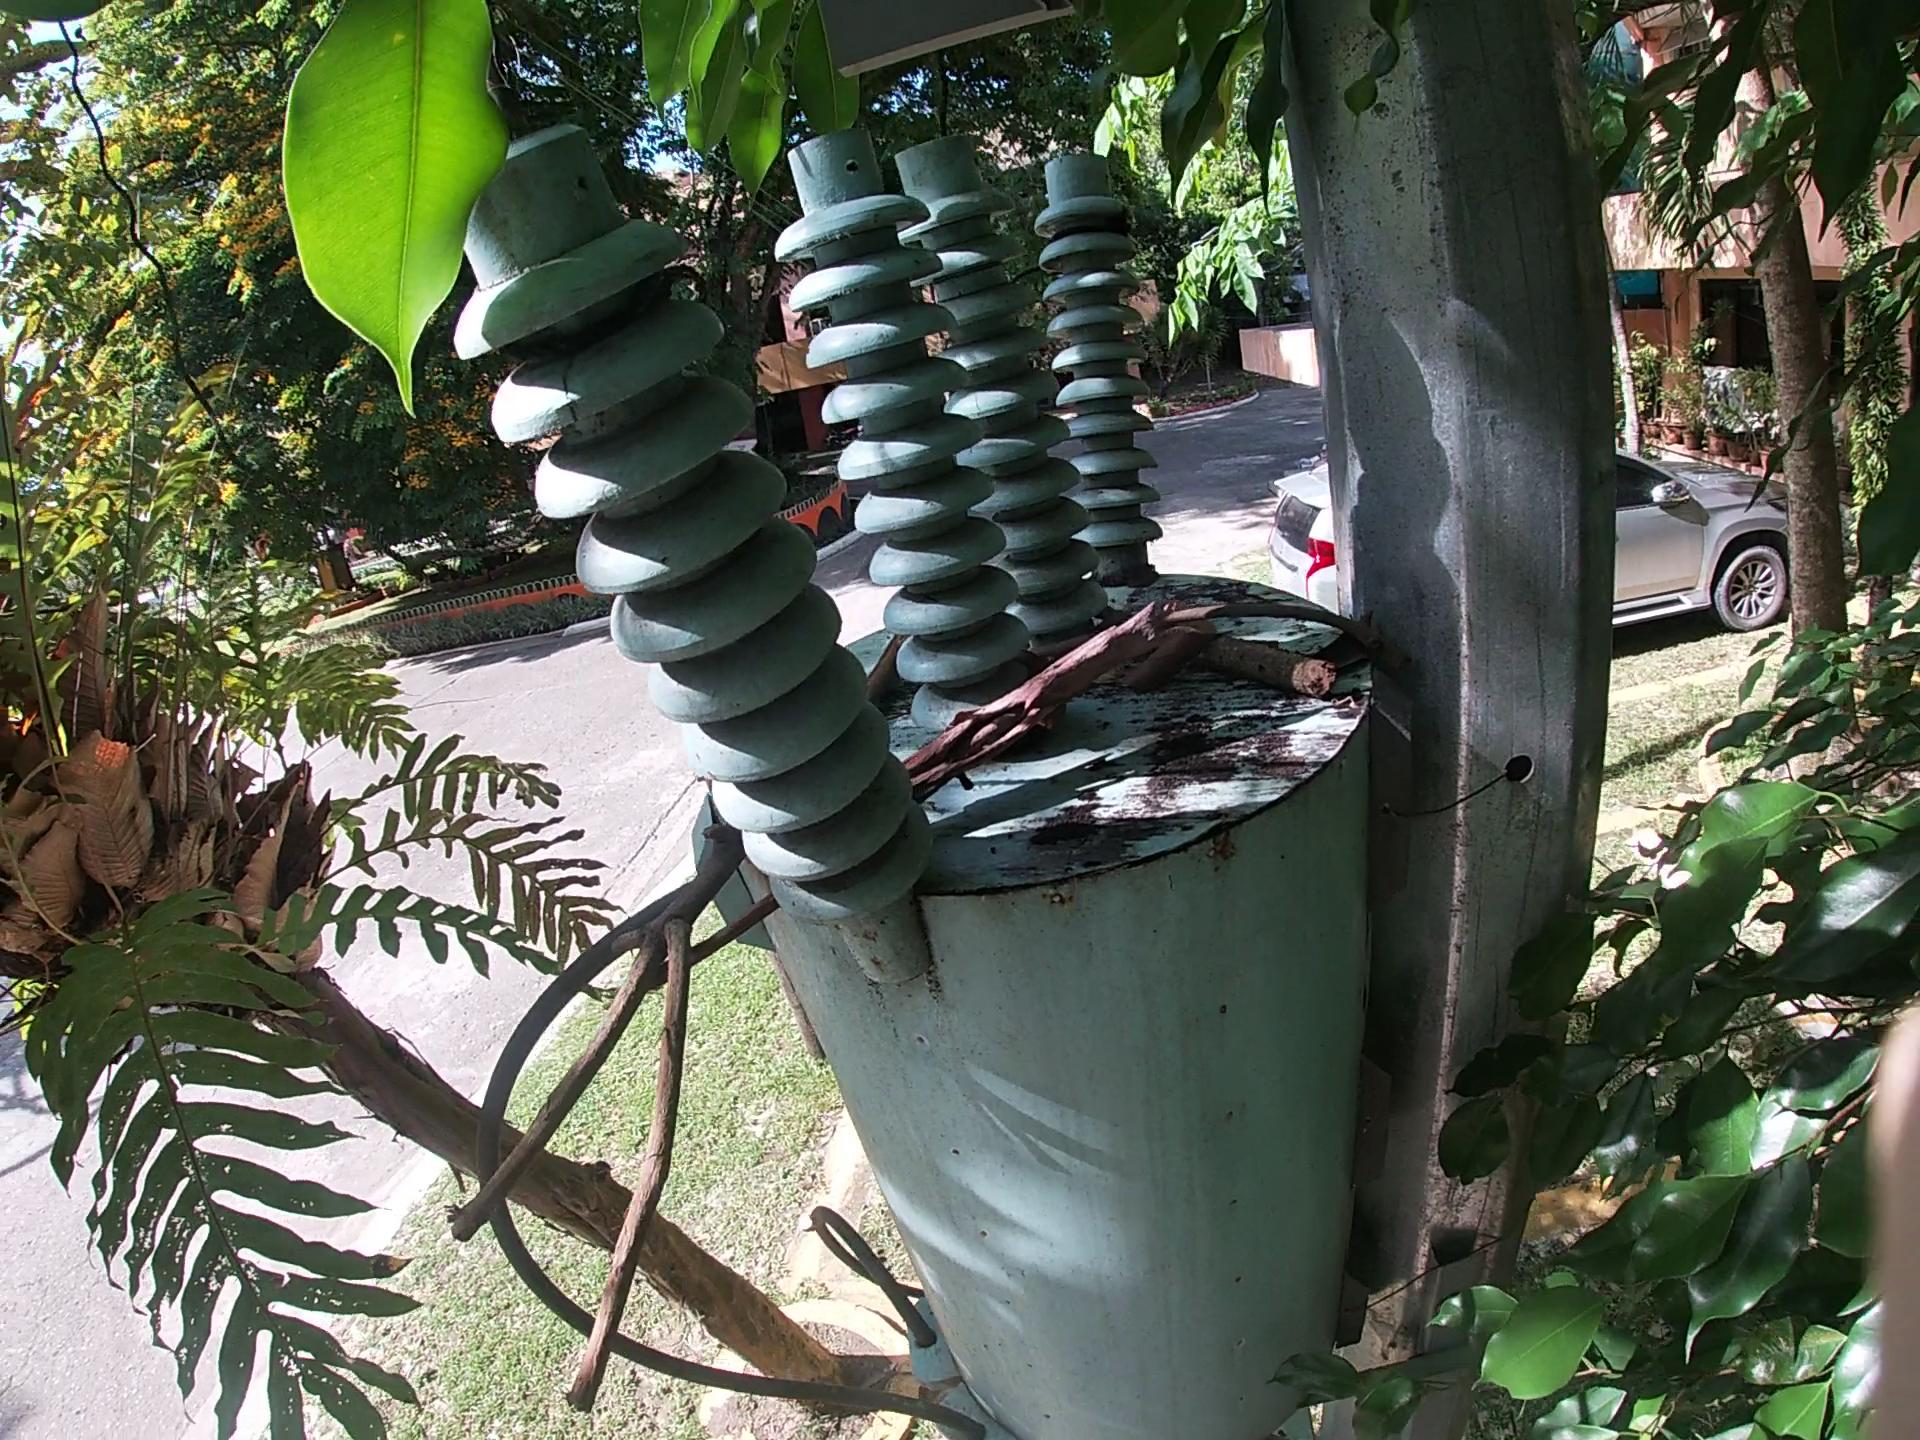leaf: (1116, 644, 1197, 703), (1302, 616, 1379, 667), (1147, 579, 1219, 629)
tree branch: (476, 821, 747, 1417), (906, 596, 1176, 793), (626, 908, 777, 1006), (1181, 625, 1347, 700), (1167, 596, 1373, 640), (1016, 622, 1105, 678), (875, 622, 928, 700)
